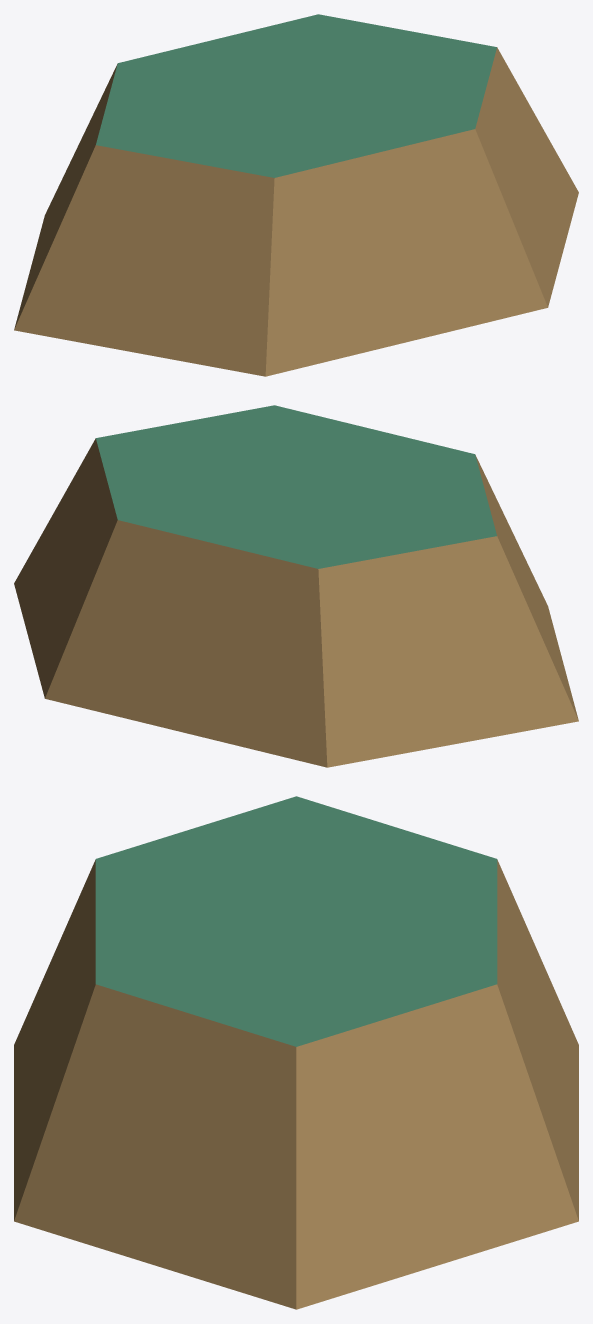
The model's file is Rock_Small_Mesa_Eroded_Moss_Grass_19.FBX.
3 renders of one model, top to bottom at view 1: azimuth 30°, elevation 25°; view 2: azimuth 150°, elevation 25°; view 3: azimuth 270°, elevation 25°, orthographic. The views are drawn at different scales.
Visible parts, largest first — view 1: Rock_Small_Mesa_Eroded_Moss_Grass_19; view 2: Rock_Small_Mesa_Eroded_Moss_Grass_19; view 3: Rock_Small_Mesa_Eroded_Moss_Grass_19.
Boxes of the visible parts, x1=… form: Rock_Small_Mesa_Eroded_Moss_Grass_19: x1=14, y1=14, x2=578, y2=376; Rock_Small_Mesa_Eroded_Moss_Grass_19: x1=14, y1=405, x2=578, y2=767; Rock_Small_Mesa_Eroded_Moss_Grass_19: x1=14, y1=796, x2=578, y2=1309.
Size of the model in its own units: 2246 by 628 by 1519.
